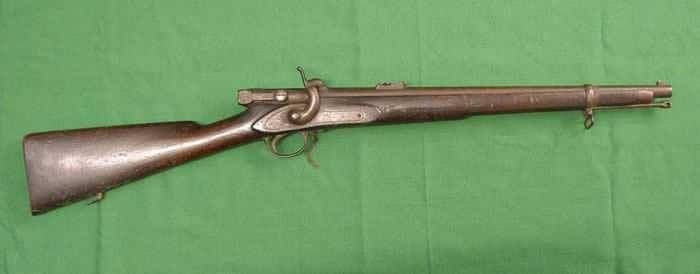heavyweapon: (12, 63, 686, 227)
